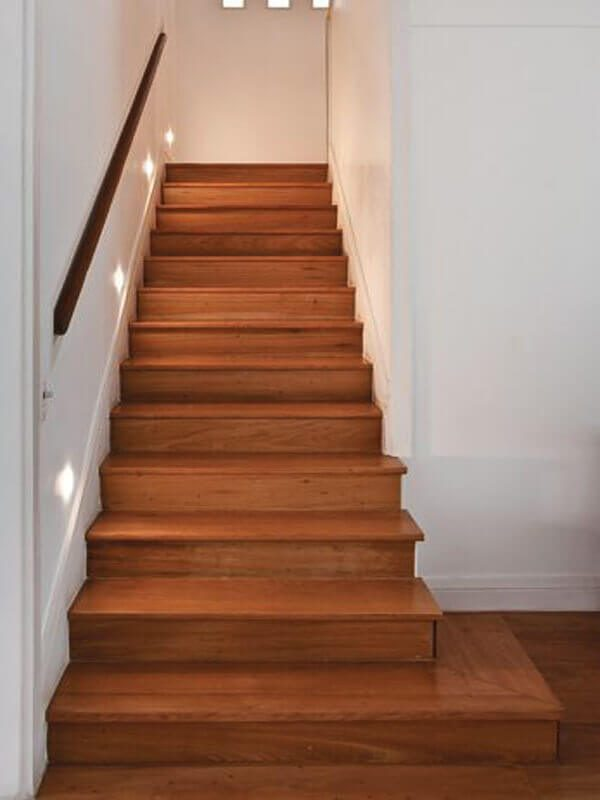escada: (169, 148, 449, 800)
